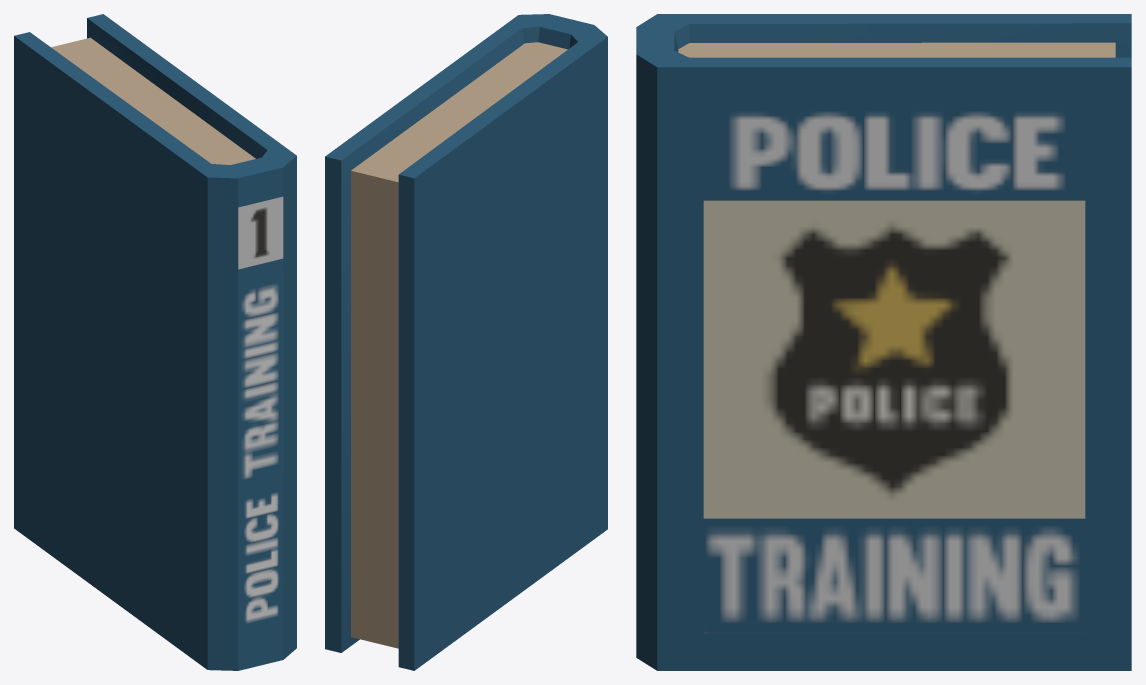
File: SM_Prop_Book_01.fbx
3 renders of one model, left to right at view 1: azimuth 30°, elevation 25°; view 2: azimuth 150°, elevation 25°; view 3: azimuth 270°, elevation 25°, orthographic. The views are drawn at different scales.
Parts seen in each view (by area): view 1: SM_Prop_Book_01; view 2: SM_Prop_Book_01; view 3: SM_Prop_Book_01.
Boxes of the visible parts, box(x1,y1,x2,y2) form: SM_Prop_Book_01: box(14, 14, 296, 670); SM_Prop_Book_01: box(325, 14, 607, 670); SM_Prop_Book_01: box(636, 14, 1131, 670).
Bounding box in the file's own units: 8.52 × 44.88 × 33.39.
